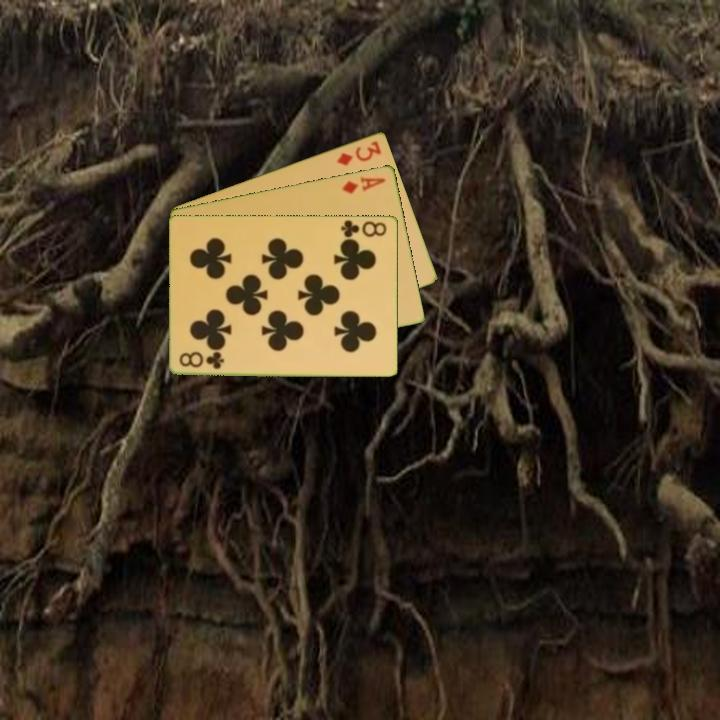3d: (333, 137, 385, 169)
8c: (338, 216, 390, 240), (176, 350, 227, 371)
Ad: (339, 173, 389, 196)
